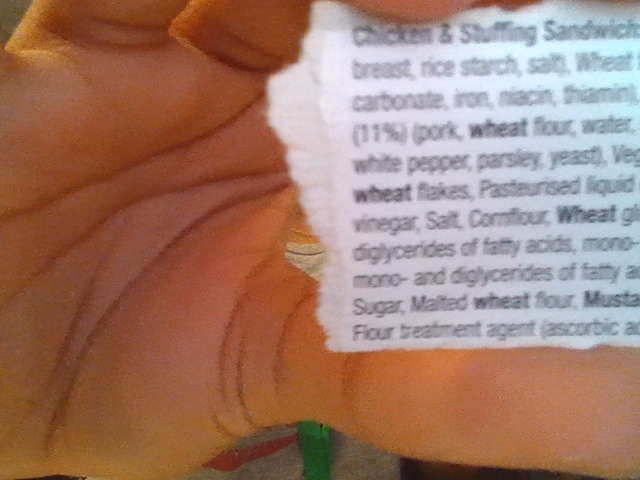wheat: (553, 203, 621, 224)
